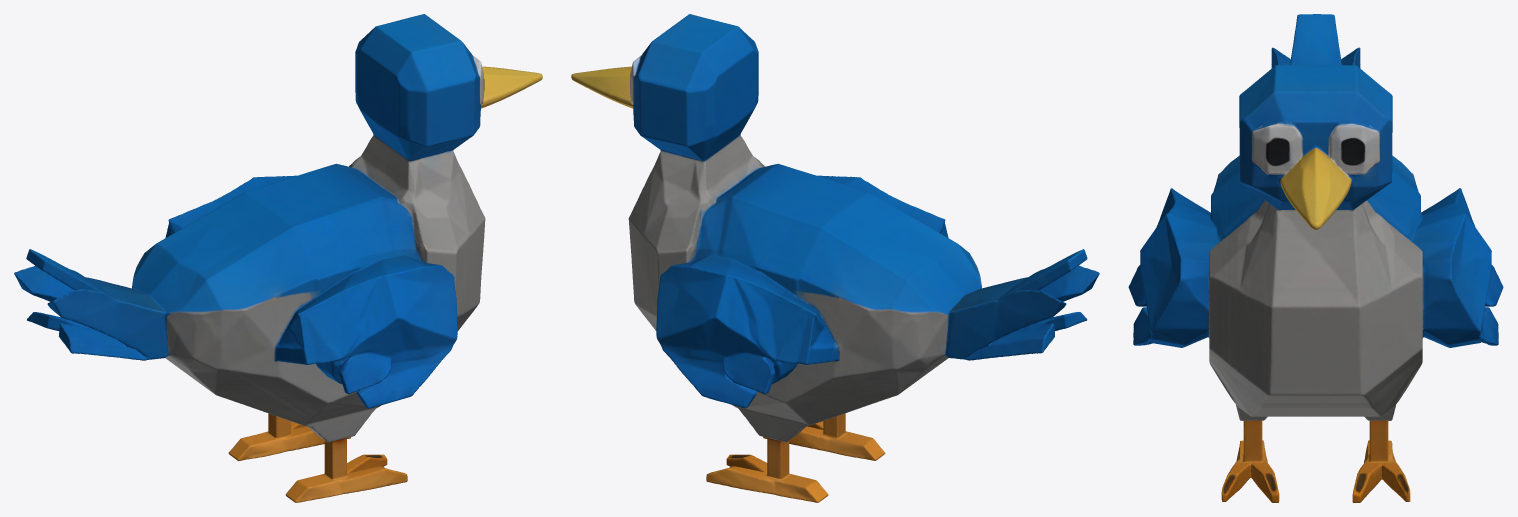
The model's file is dodo.glb.
3 views of the same model, side by side, from view 1: azimuth 30°, elevation 25°; view 2: azimuth 150°, elevation 25°; view 3: azimuth 270°, elevation 25° (orthographic). The views are drawn at different scales.
Visible parts, largest first — view 1: tripo_node_f8b07a47-c8f2-474d-bddf-7af3c9a7f276; view 2: tripo_node_f8b07a47-c8f2-474d-bddf-7af3c9a7f276; view 3: tripo_node_f8b07a47-c8f2-474d-bddf-7af3c9a7f276.
Boxes of the visible parts, box(x1,y1,x2,y2) form: tripo_node_f8b07a47-c8f2-474d-bddf-7af3c9a7f276: box(14, 14, 542, 502); tripo_node_f8b07a47-c8f2-474d-bddf-7af3c9a7f276: box(571, 14, 1099, 502); tripo_node_f8b07a47-c8f2-474d-bddf-7af3c9a7f276: box(1128, 14, 1503, 502).
Size of the model in its own units: 1 by 0.7651 by 0.5711.
1 material, 1 textured.
